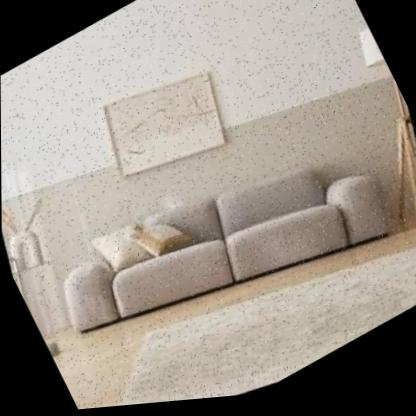Sofa: (3, 52, 416, 416)
